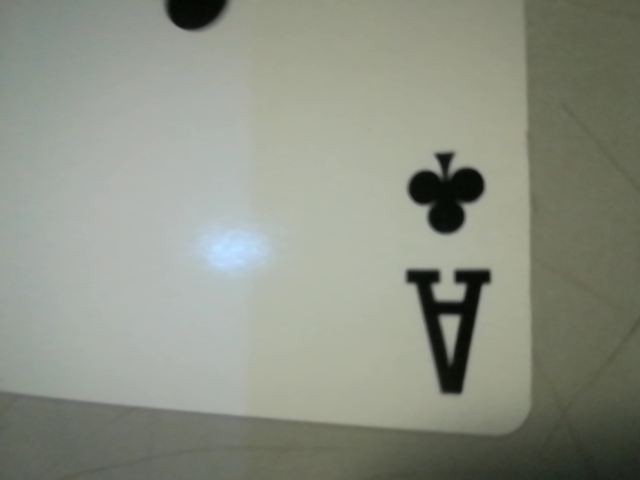mh a: (368, 136, 520, 405)
